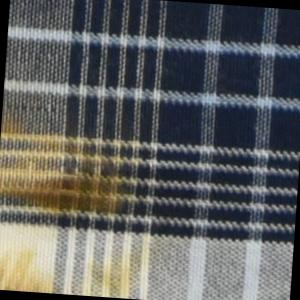Oil Stain: (1, 111, 144, 220), (1, 231, 156, 300)
